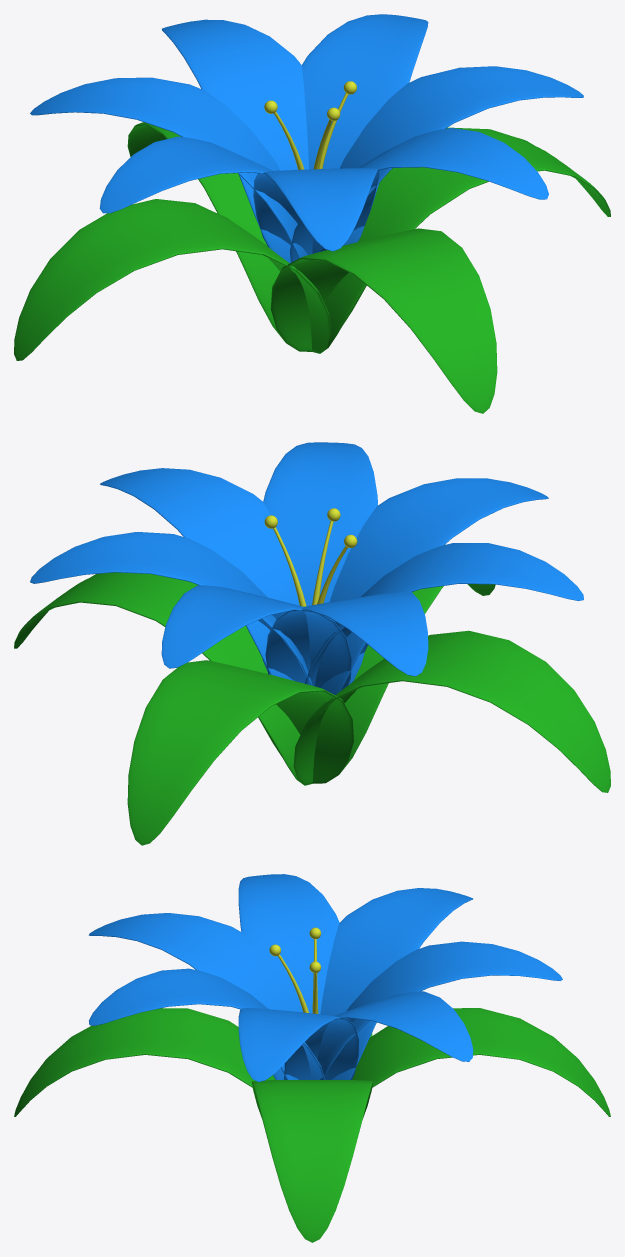
Rendered from BluePoplar.fbx.
3 renders of one model, top to bottom at view 1: azimuth 30°, elevation 25°; view 2: azimuth 150°, elevation 25°; view 3: azimuth 270°, elevation 25°, orthographic. The views are drawn at different scales.
Parts seen in each view (by area): view 1: Blue_Poplar; view 2: Blue_Poplar; view 3: Blue_Poplar.
Boxes of the visible parts, x1,y1,x2,y2 form: Blue_Poplar: (14,14,610,413); Blue_Poplar: (14,442,610,845); Blue_Poplar: (14,874,610,1242).
Bounding box in the file's own units: 827 × 346 × 827.
1 material, 1 textured.
